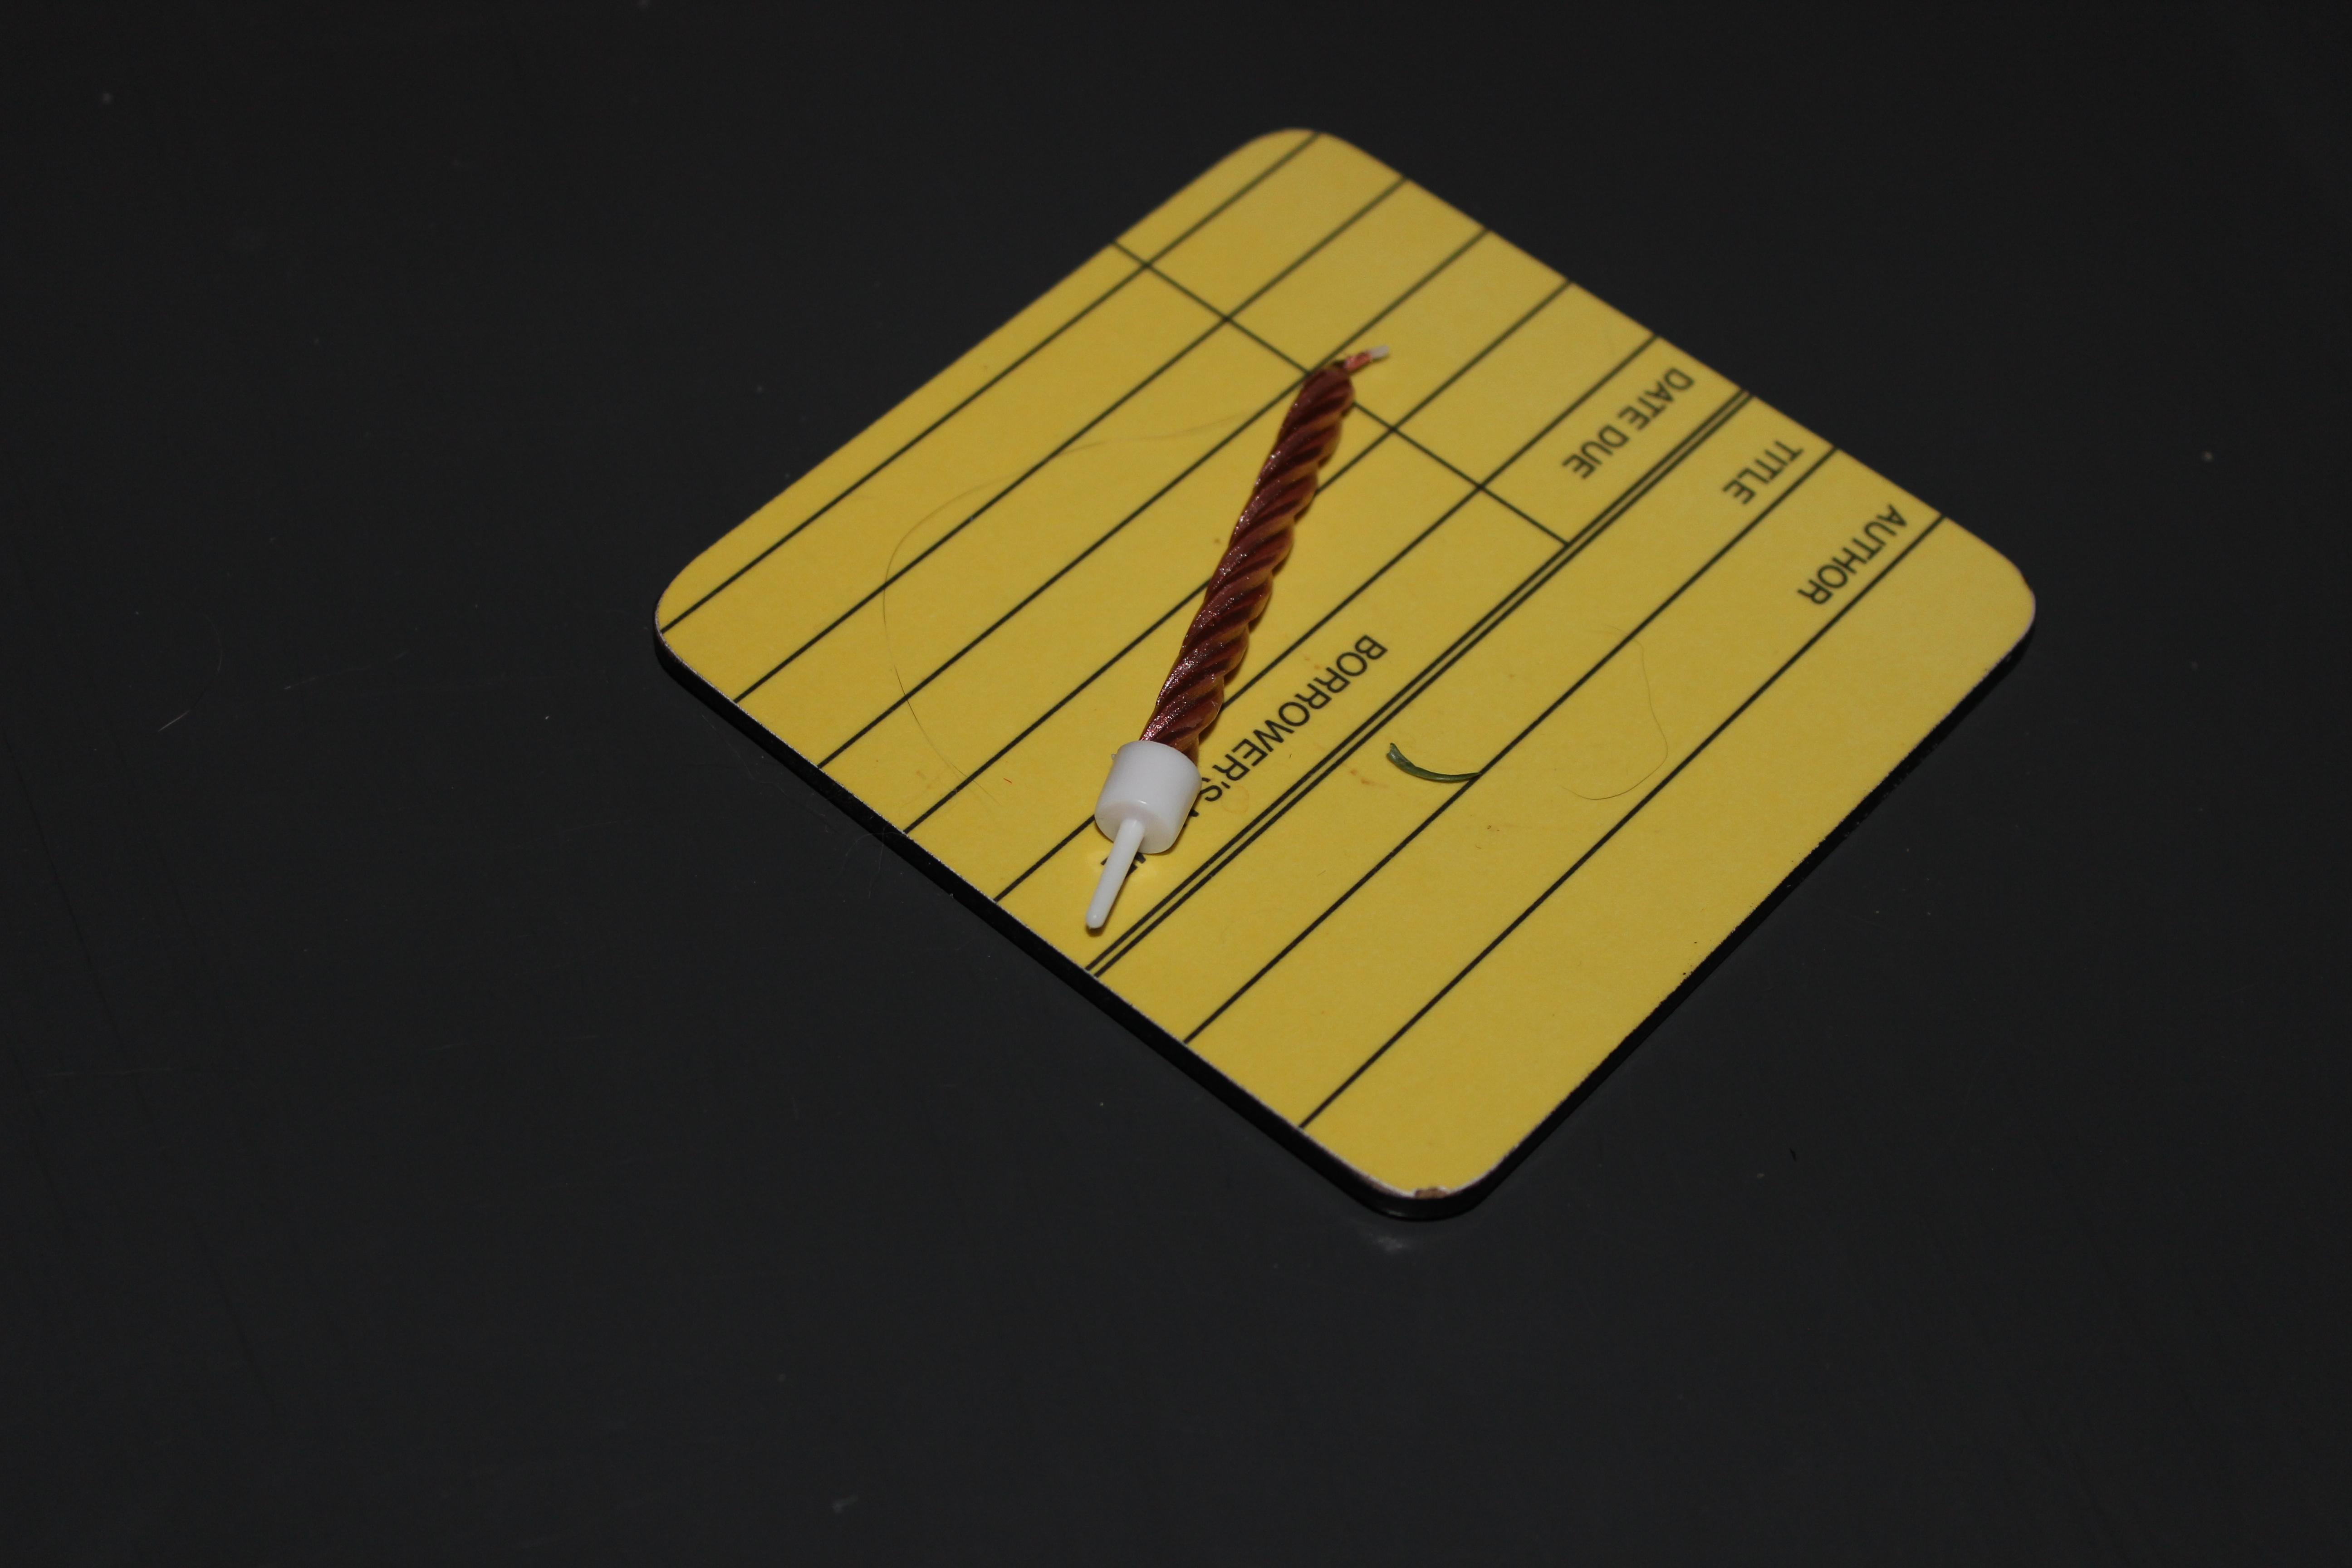pinkCandle: (1069, 292, 1414, 961)
